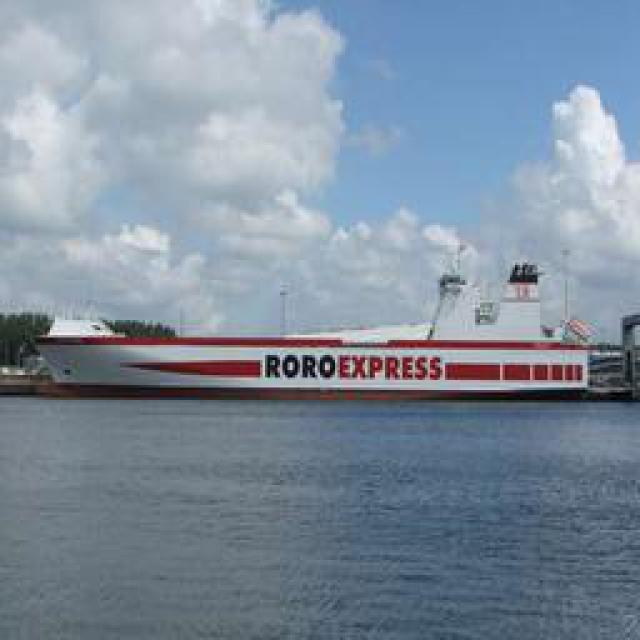Ship: (41, 276, 606, 401)
